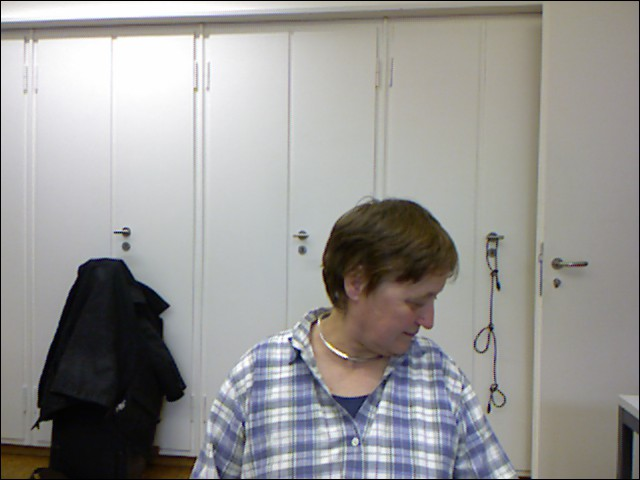deflection: (235, 213, 476, 480)
